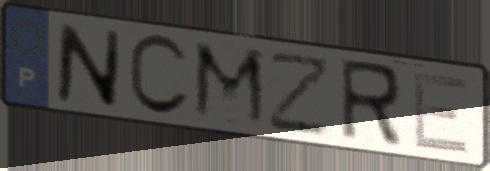C: (125, 31, 194, 120)
E: (409, 69, 472, 158)
M: (189, 37, 271, 133)
N: (52, 21, 124, 112)
R: (337, 56, 405, 151)
Z: (266, 51, 334, 139)
